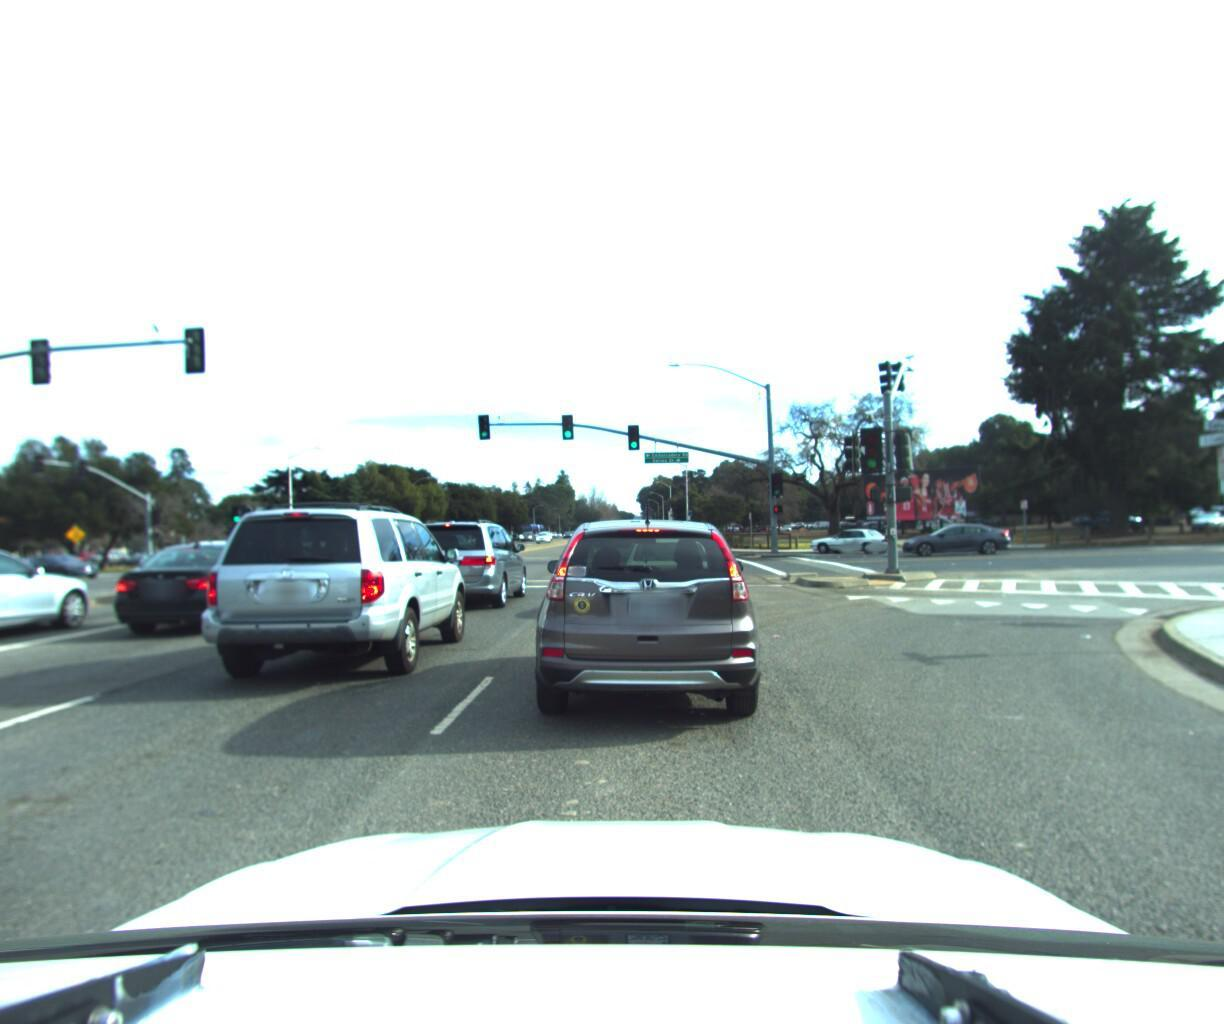car: (512, 497, 792, 750), (169, 493, 483, 702), (82, 526, 322, 643), (0, 543, 118, 681), (388, 511, 533, 613), (140, 537, 296, 609), (0, 543, 21, 865), (892, 516, 1011, 553), (13, 550, 113, 582), (805, 523, 897, 553), (130, 542, 211, 571)
